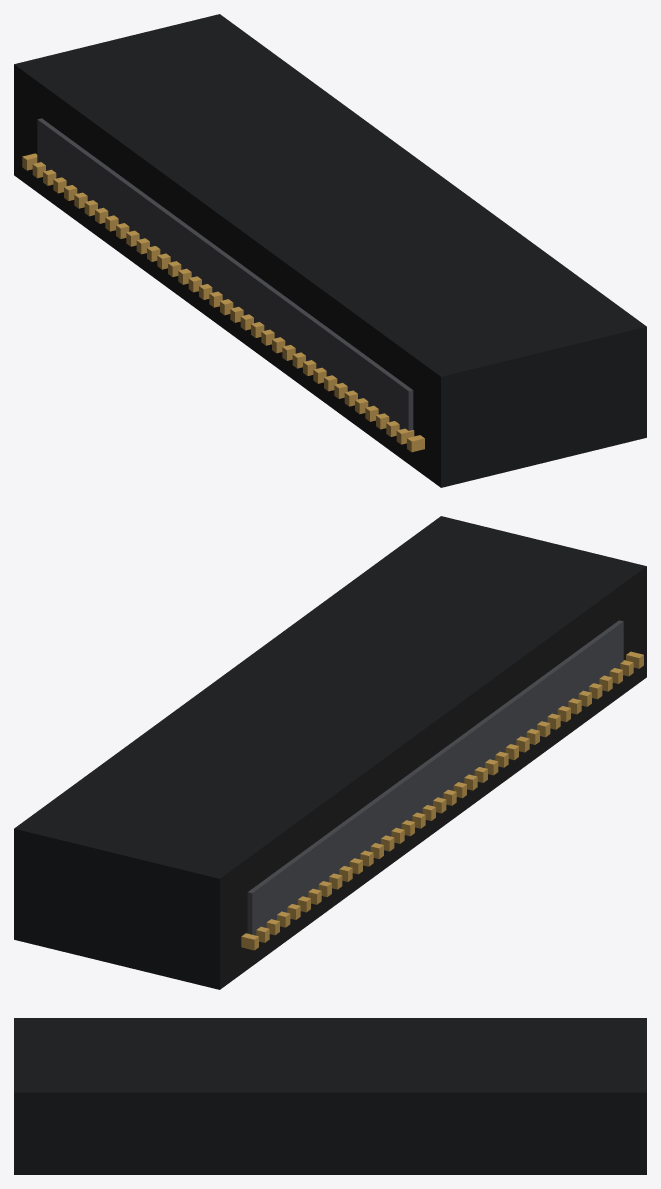
3 views of the same model, one above another, from view 1: azimuth 30°, elevation 25°; view 2: azimuth 150°, elevation 25°; view 3: azimuth 270°, elevation 25° (orthographic). The views are drawn at different scales.
Visible parts, largest first — view 1: M2_1__Plastic, M2_1__Pad, M2_1__Gold; view 2: M2_1__Plastic, M2_1__Pad, M2_1__Gold; view 3: M2_1__Plastic.
Boxes of the visible parts, x1=… form: M2_1__Plastic: x1=14, y1=14, x2=646, y2=487; M2_1__Pad: x1=37, y1=118, x2=413, y2=430; M2_1__Gold: x1=22, y1=153, x2=424, y2=452; M2_1__Plastic: x1=14, y1=516, x2=646, y2=989; M2_1__Pad: x1=247, y1=620, x2=623, y2=935; M2_1__Gold: x1=241, y1=651, x2=643, y2=950; M2_1__Plastic: x1=14, y1=1018, x2=646, y2=1174.
Size of the model in its own units: 6.81 by 3.3 by 23.
